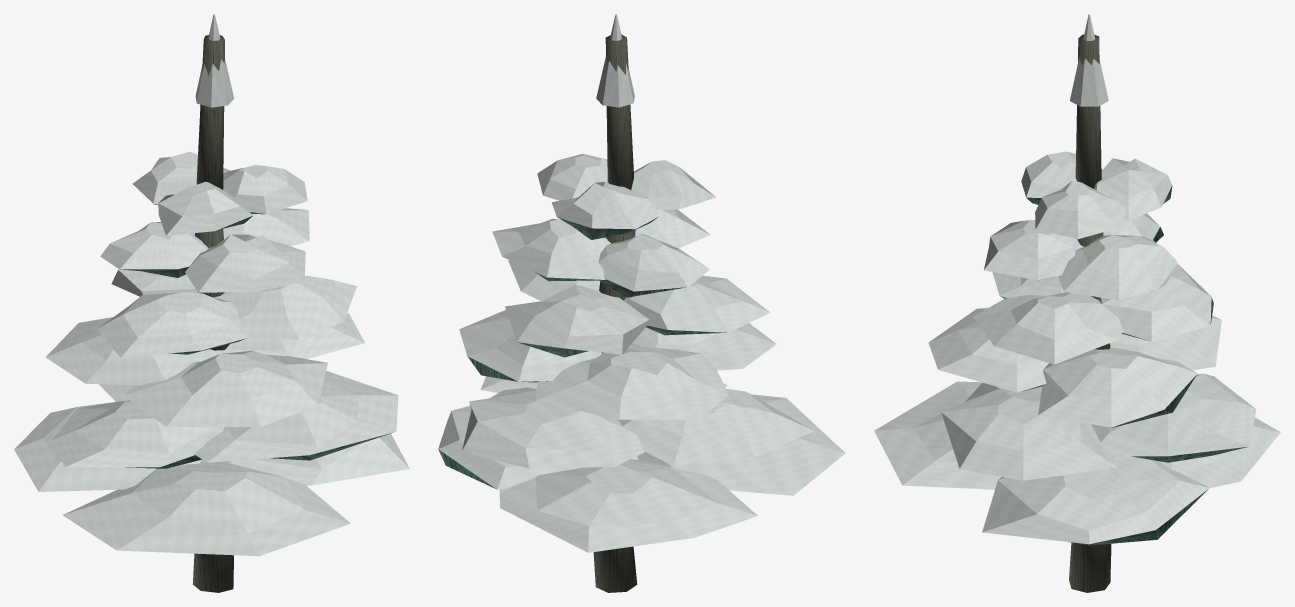
The model's file is snow_pine_v02.glb.
3 views of the same model, side by side, from view 1: azimuth 30°, elevation 25°; view 2: azimuth 150°, elevation 25°; view 3: azimuth 270°, elevation 25° (orthographic).
Parts seen in each view (by area): view 1: snow_pine_v02; view 2: snow_pine_v02; view 3: snow_pine_v02.
Boxes of the visible parts, x1=… form: snow_pine_v02: x1=14, y1=14, x2=409, y2=592; snow_pine_v02: x1=438, y1=14, x2=845, y2=592; snow_pine_v02: x1=874, y1=14, x2=1280, y2=592.
Size of the model in its own units: 5.91 by 9.4 by 6.08.
1 material, 1 textured.
